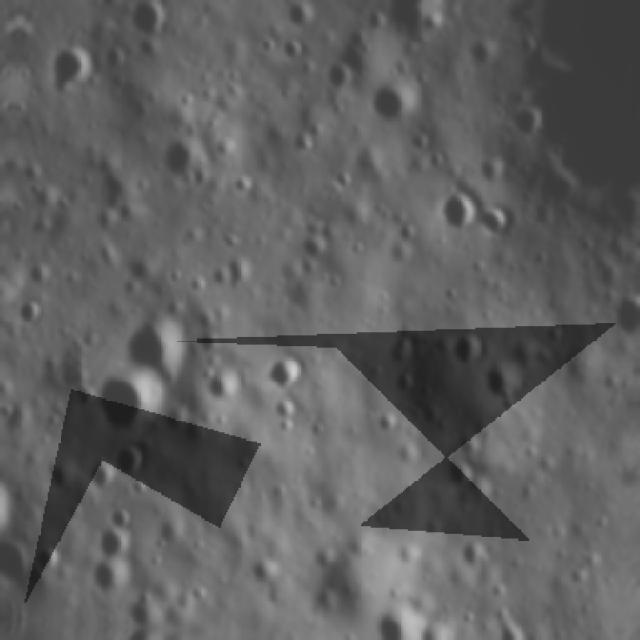crater: (119, 307, 195, 390), (93, 366, 172, 442), (39, 39, 104, 103), (154, 130, 214, 190), (364, 73, 421, 127), (477, 356, 525, 413), (504, 97, 550, 152), (202, 355, 246, 411), (435, 188, 482, 240), (125, 0, 178, 45), (474, 197, 520, 246), (89, 522, 140, 566), (262, 349, 308, 396), (78, 452, 122, 499), (292, 221, 334, 267), (461, 27, 502, 73), (368, 604, 419, 640), (88, 562, 132, 603), (609, 289, 640, 346), (436, 456, 481, 495), (448, 329, 486, 373), (267, 391, 307, 431), (28, 542, 66, 582), (320, 55, 355, 97), (458, 534, 494, 574), (14, 296, 49, 332), (281, 2, 319, 35), (491, 615, 534, 640), (278, 33, 307, 69)
